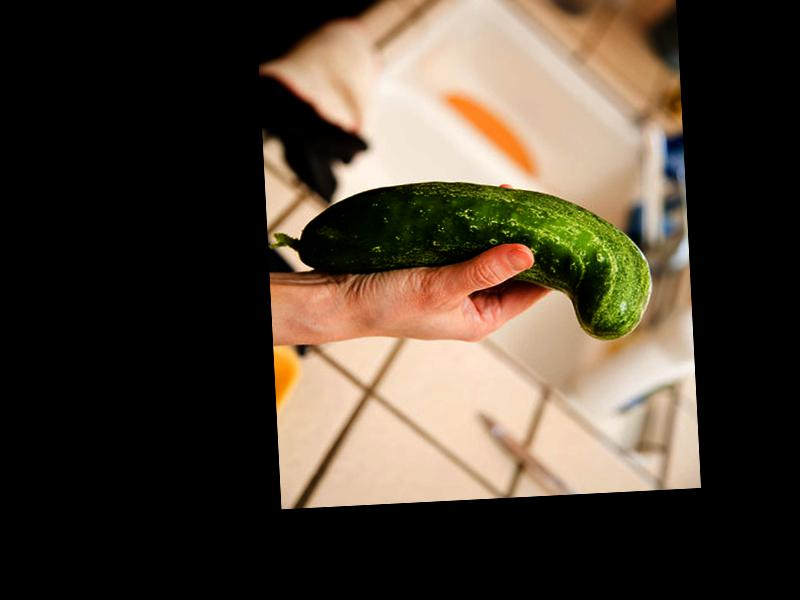Cucumber: (271, 170, 655, 356)
